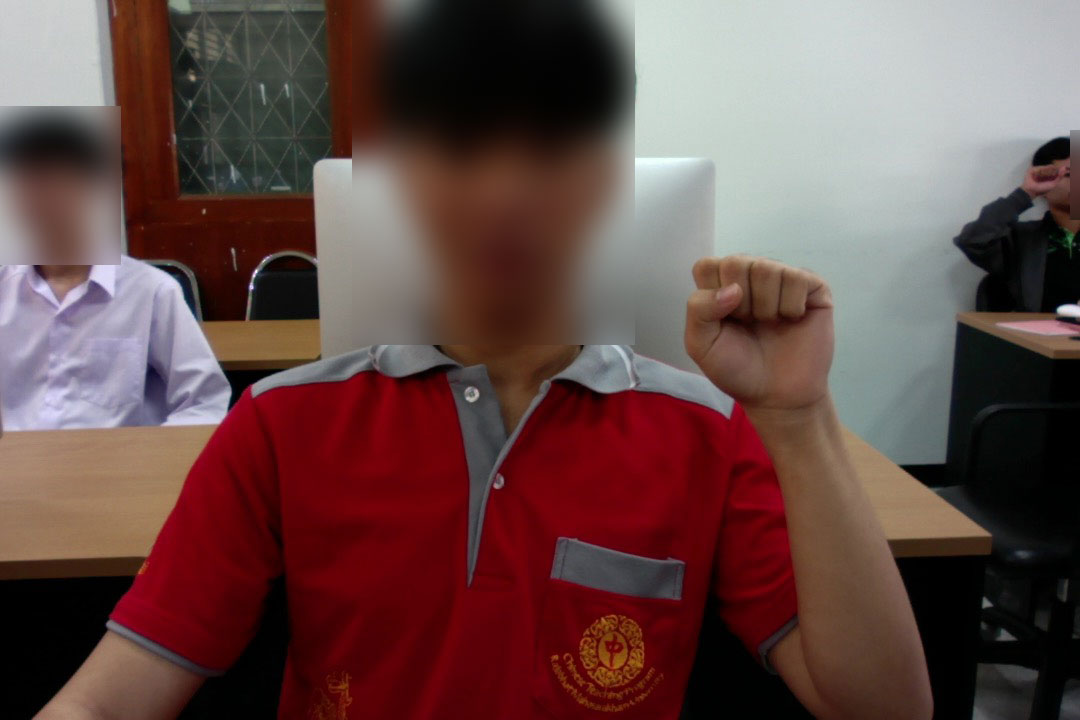sor: (674, 244, 844, 453)
